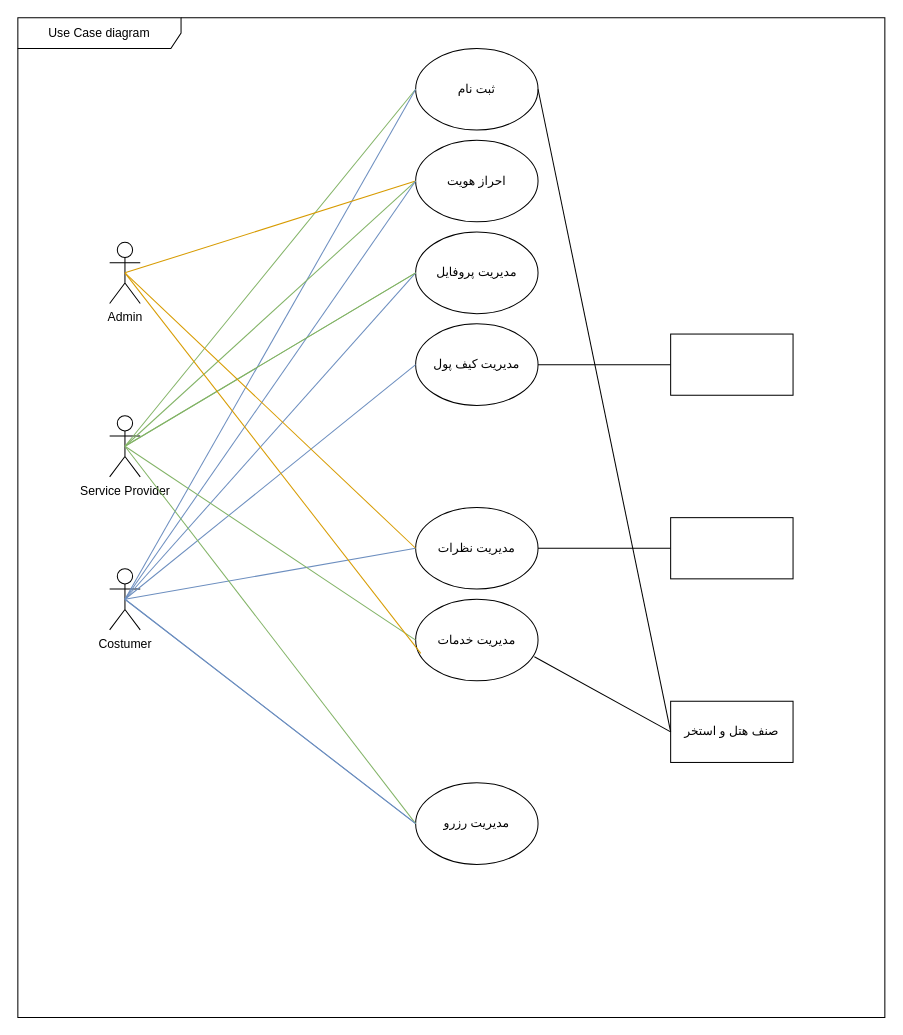
Image size: 903x1035. Some labels were removed from this diagram. Each missing label, with the centre of its shape:
بانک: (731,364)
سیستم: (731,548)
